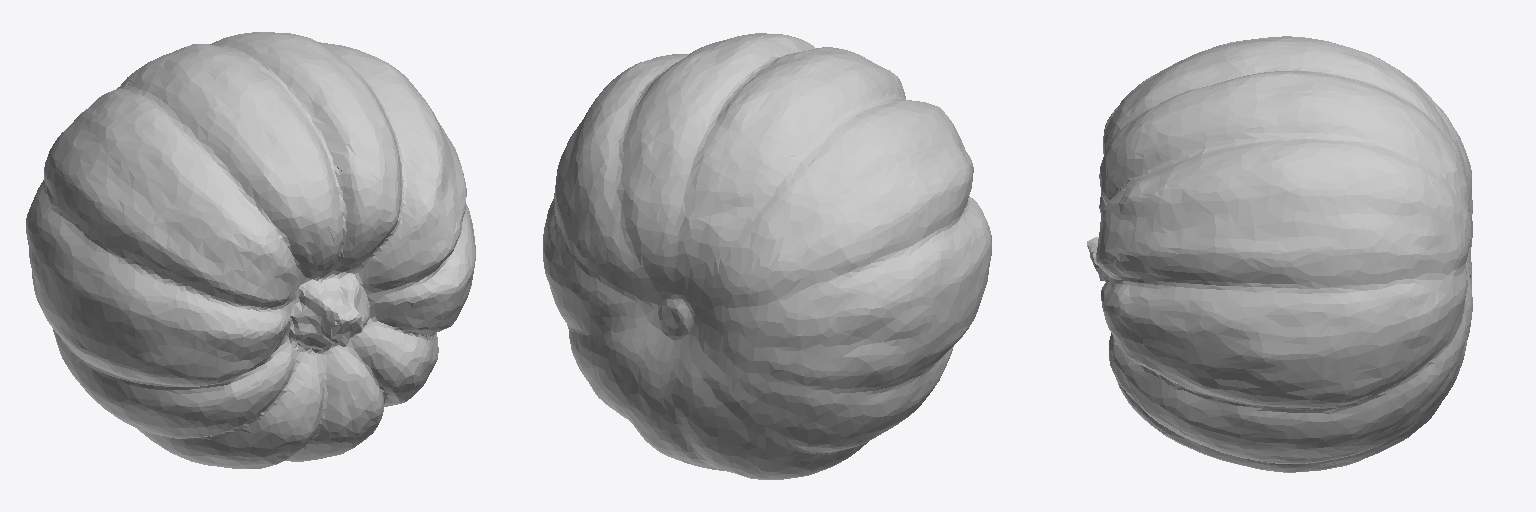
Rendered from pumpkin2.obj.
3 renders of one model, left to right at view 1: azimuth 30°, elevation 25°; view 2: azimuth 150°, elevation 25°; view 3: azimuth 270°, elevation 25°, orthographic.
Parts seen in each view (by area): view 1: pumpkin; view 2: pumpkin; view 3: pumpkin.
Part boxes in pixels (x1,y1,x2,y2): pumpkin: (26,32,475,468); pumpkin: (543,33,991,479); pumpkin: (1087,36,1472,472).
Bounding box in the file's own units: 79.14 × 76.94 × 68.4.